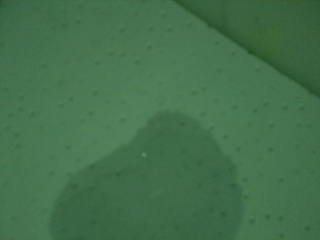Water_detected: (73, 134, 206, 240)
